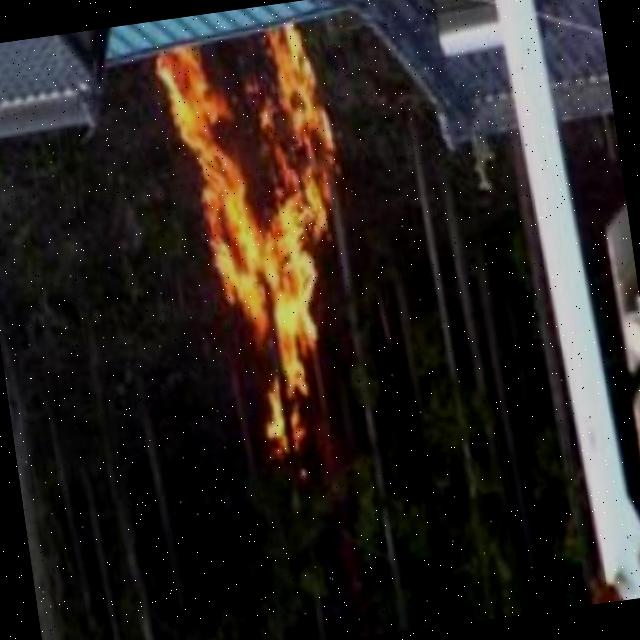fire: (138, 22, 379, 467)
